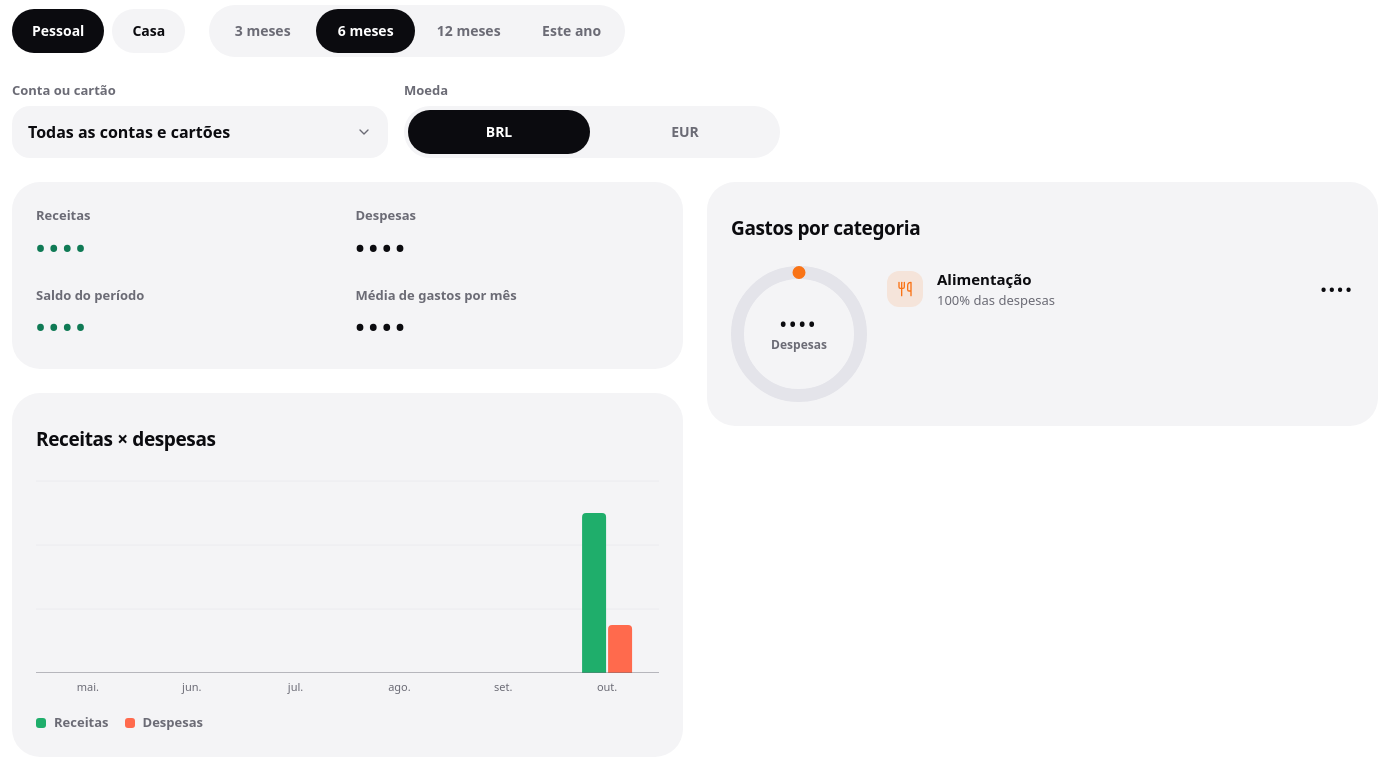
ocultar valores: nenhum valor vaza em /reports (resumo, eixo, balão, tabela)
(page scrolled)
Focus the picture named "Receitas × despesas. Valores ocultos". click: coordinates (348, 573)
box: [36,473,659,673]
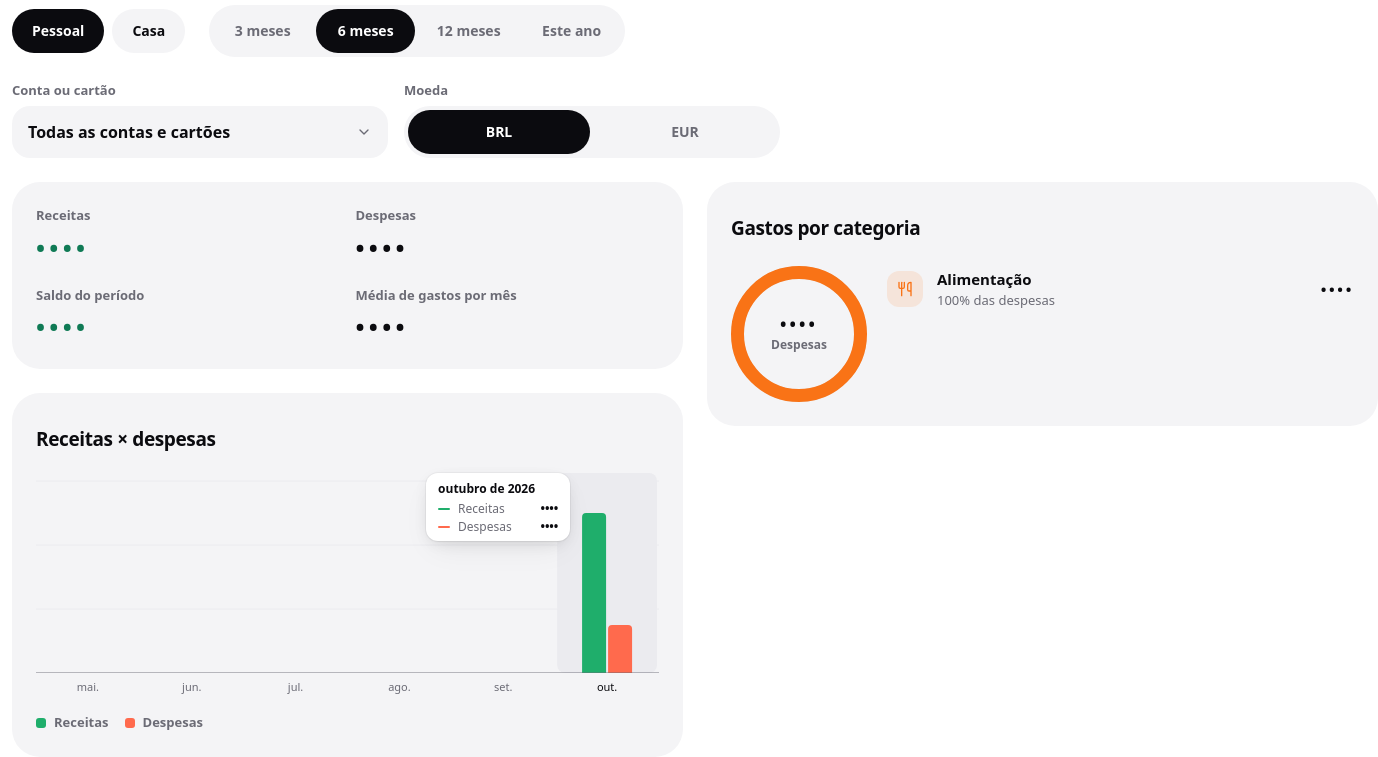
Expected: the text "••••" is shown, [36,230,89,266]
Expected: the tooltip "outubro de 2026 Receitas •••• Despesas ••••" is shown, [426,473,570,541]
